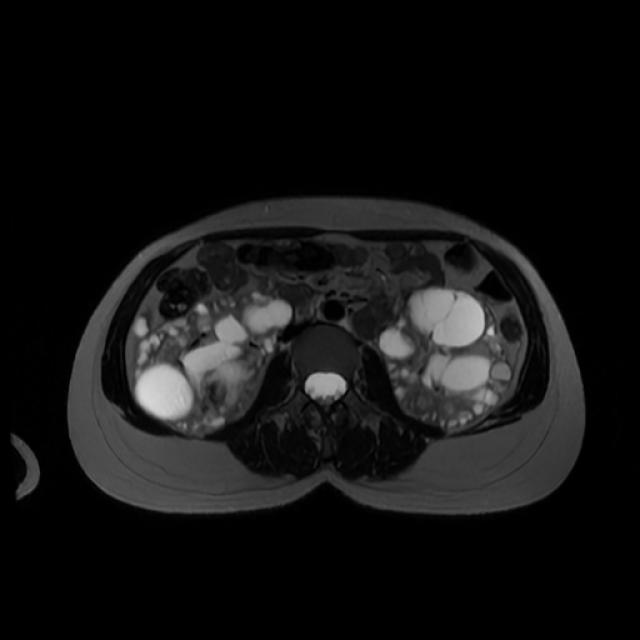sag: (133, 296, 292, 435)
sol: (381, 287, 509, 428)
